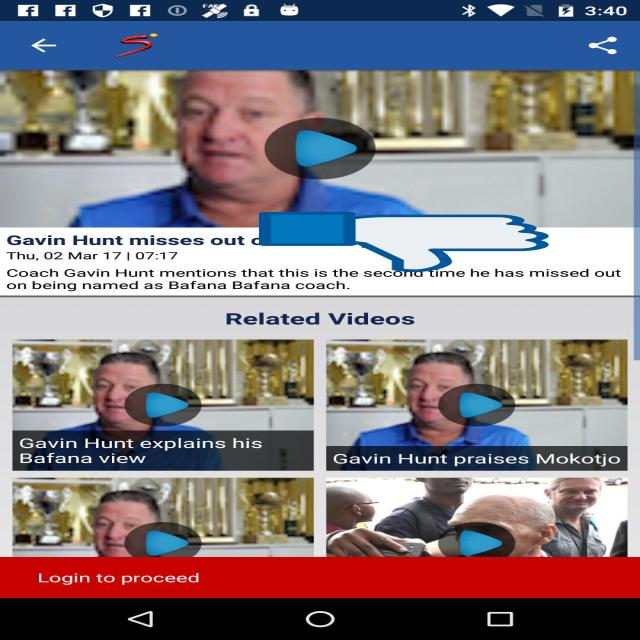obstruction: (259, 211, 549, 273)
